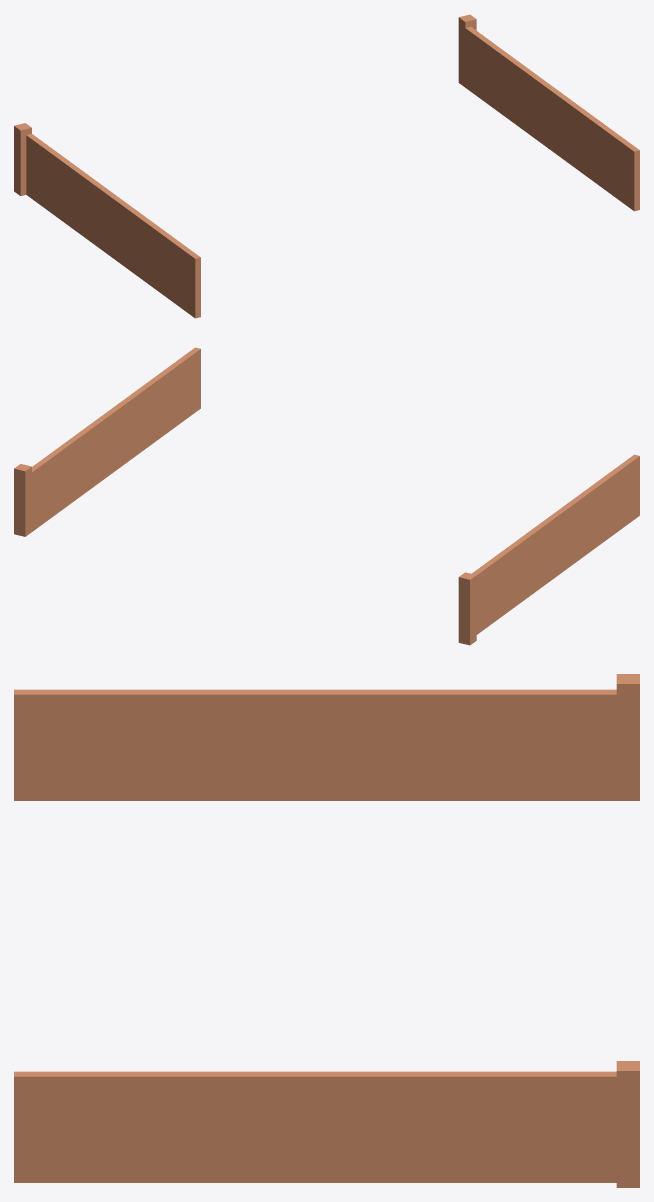
Rendered from Fence Open.glb.
3 renders of one model, top to bottom at view 1: azimuth 30°, elevation 25°; view 2: azimuth 150°, elevation 25°; view 3: azimuth 270°, elevation 25°, orthographic. The views are drawn at different scales.
Parts seen in each view (by area): view 1: fence_open; view 2: fence_open; view 3: fence_open.
Boxes of the visible parts, <box> form: fence_open: <box>14,14,639,318</box>; fence_open: <box>14,347,639,645</box>; fence_open: <box>14,674,639,1187</box>.
Bounding box in the file's own units: 1.2 × 0.165 × 0.8.
